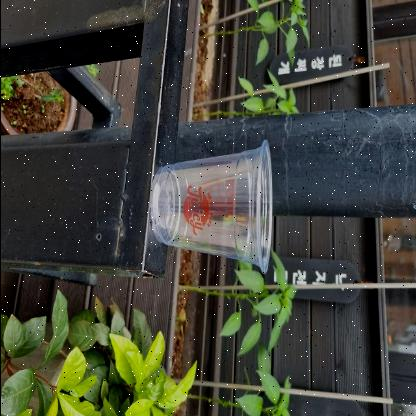Others: (144, 134, 274, 278)
